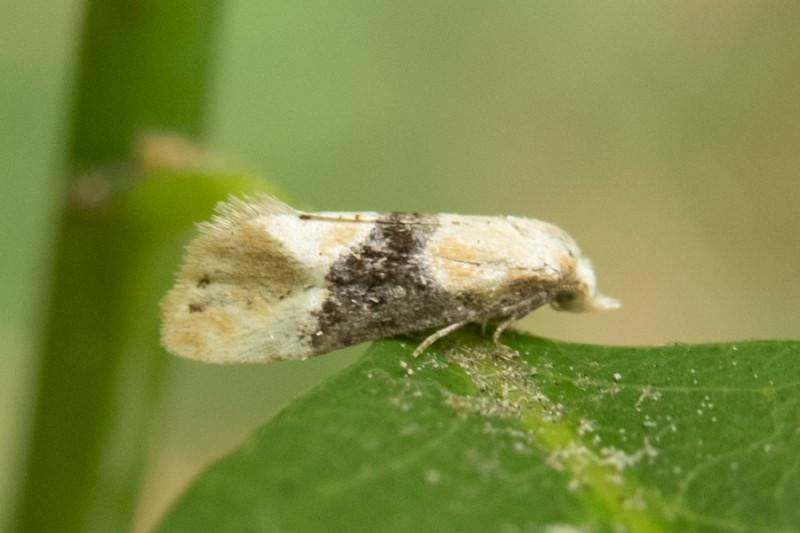Eupoecilia Ambiguella: (155, 191, 622, 365)
